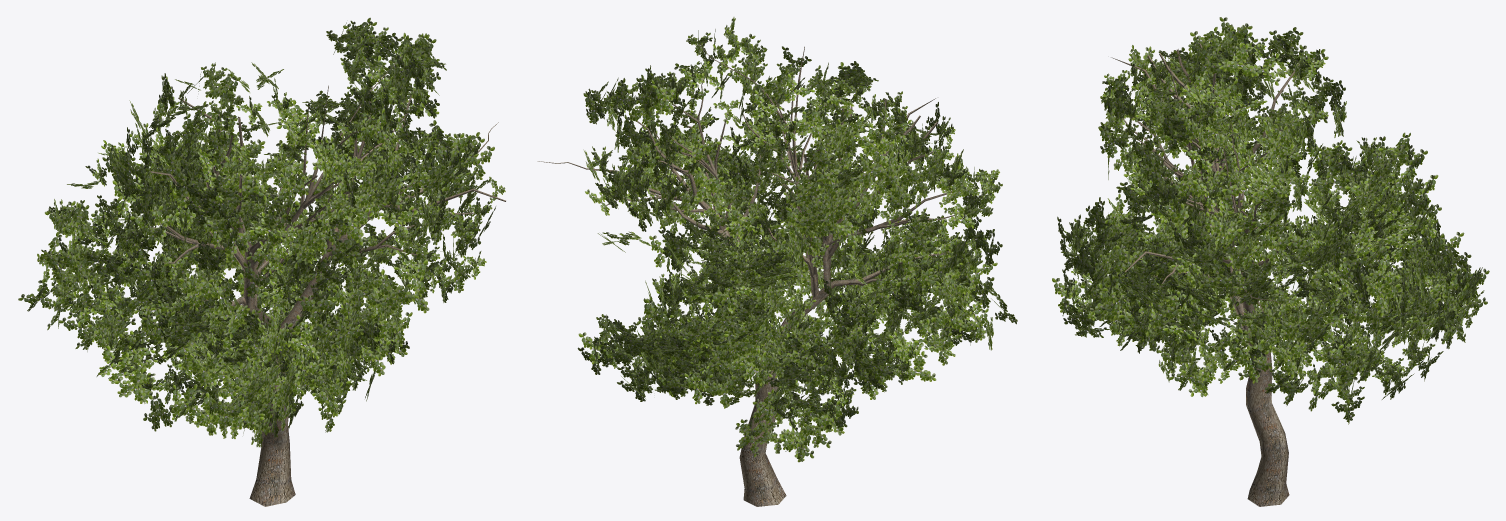
The model's file is Cercocarpus_Montanus_Autumn_Adult.glb.
3 renders of one model, left to right at view 1: azimuth 30°, elevation 25°; view 2: azimuth 150°, elevation 25°; view 3: azimuth 270°, elevation 25°, orthographic. The views are drawn at different scales.
Parts seen in each view (by area): view 1: Cercocarpus_Montanus_Autumn_Adult__LOD3; view 2: Cercocarpus_Montanus_Autumn_Adult__LOD3; view 3: Cercocarpus_Montanus_Autumn_Adult__LOD3.
Boxes of the visible parts, left/top/right/bottom form: Cercocarpus_Montanus_Autumn_Adult__LOD3: left=18, top=17, right=505, bottom=506; Cercocarpus_Montanus_Autumn_Adult__LOD3: left=537, top=17, right=1017, bottom=506; Cercocarpus_Montanus_Autumn_Adult__LOD3: left=1052, top=17, right=1489, bottom=506.
Bounding box in the file's own units: 3.84 × 3.66 × 3.29.
Materials: 2 (2 with a texture image).
